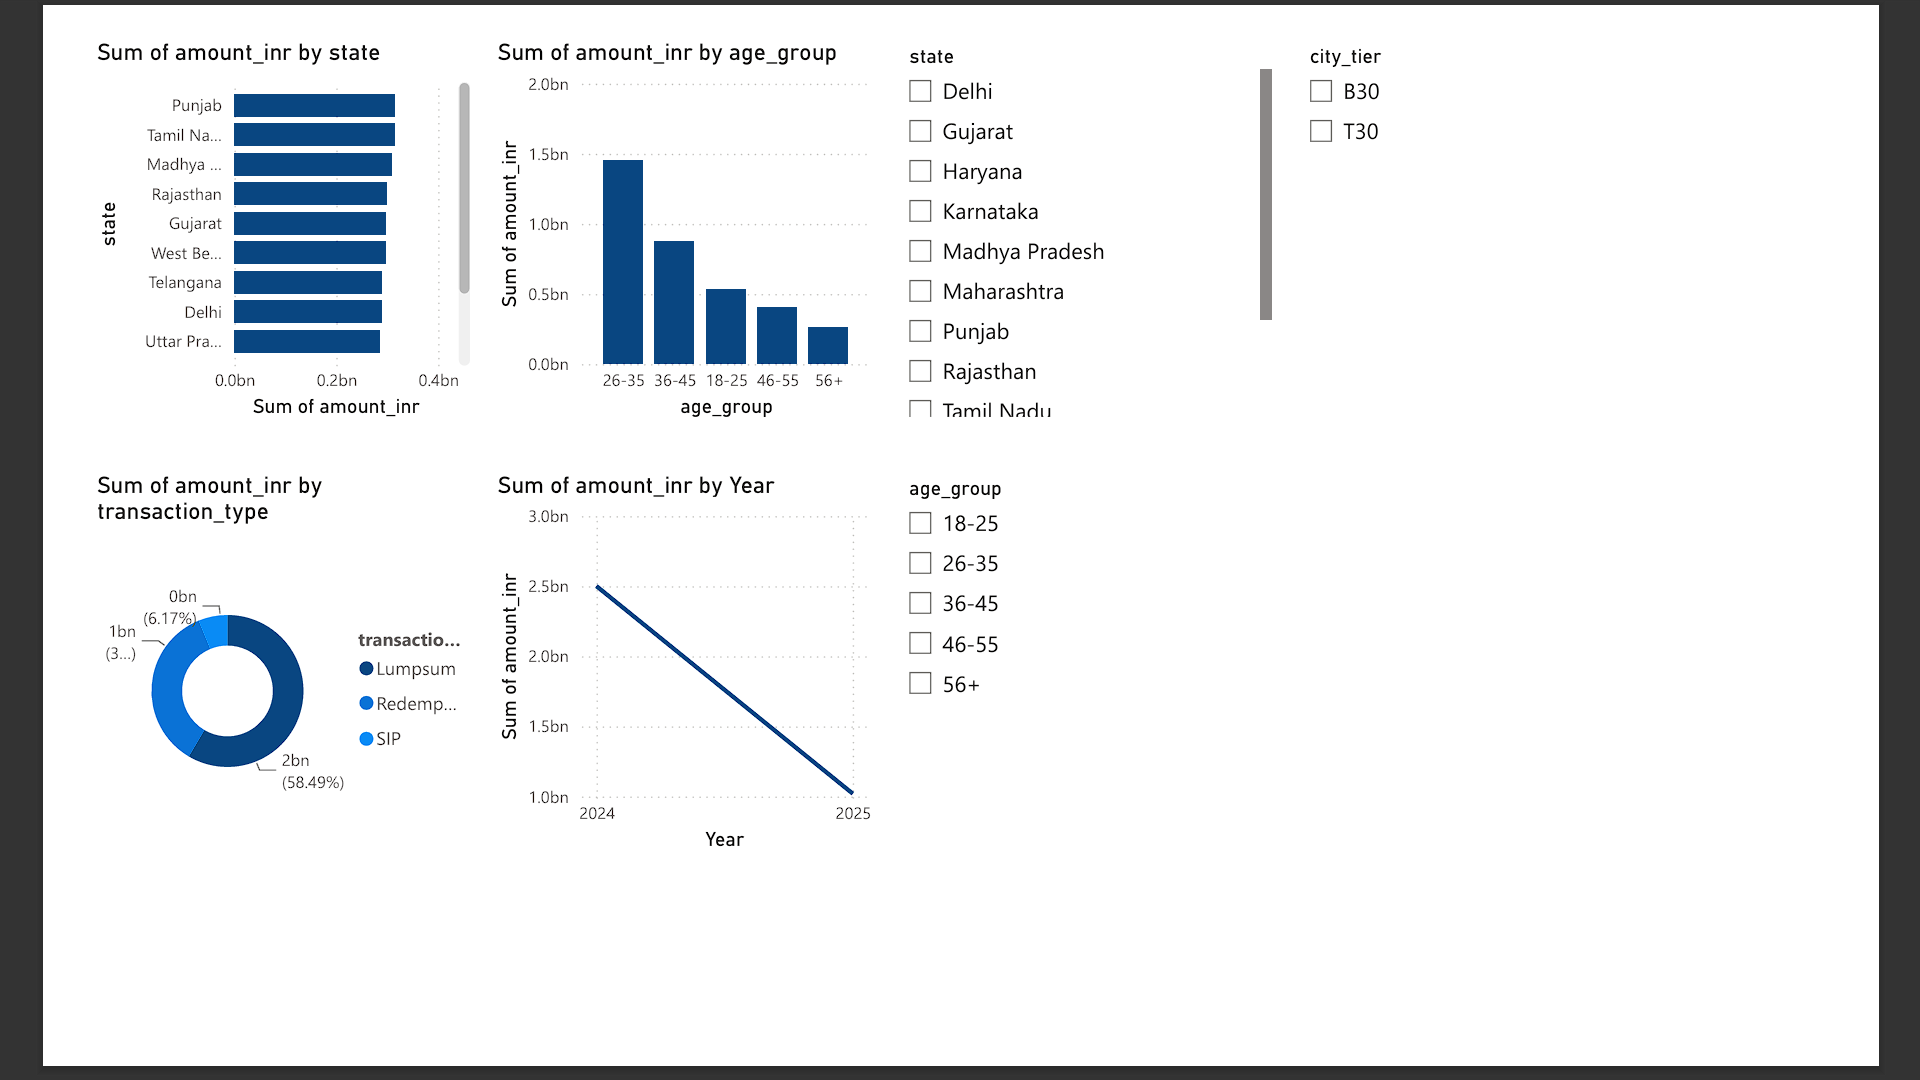

What the dashboard file says about the page in this screenshot:
{"tool":"powerbi","page":{"name":"Investor Analytics","canvas":[1280,720],"ordinal":2},"visuals":[{"type":"clusteredBarChart","fields":{"Category":["transactions_clean.state"],"Y":["Sum(transactions_clean.amount_inr)"]},"box":[10,0,280,280],"z":0},{"type":"donutChart","fields":{"Category":["transactions_clean.transaction_type"],"Y":["Sum(transactions_clean.amount_inr)"]},"box":[10,312.7,280,280],"z":1},{"type":"columnChart","fields":{"Category":["transactions_clean.age_group"],"Y":["Sum(transactions_clean.amount_inr)"]},"box":[300,0,280,280],"z":2},{"type":"lineChart","fields":{"Category":["transactions_clean.transaction_date.Variation.Date Hierarchy.Year","transactions_clean.transaction_date.Variation.Date Hierarchy.Quarter","transactions_clean.transaction_date.Variation.Date Hierarchy.Month","transactions_clean.transaction_date.Variation.Date Hierarchy.Day"],"Y":["Sum(transactions_clean.amount_inr)"]},"box":[300,313,280,280],"z":3},{"type":"slicer","fields":{"Values":["transactions_clean.state"]},"box":[590,0,280,280],"z":4},{"type":"slicer","fields":{"Values":["transactions_clean.age_group"]},"box":[590,313,280,280],"z":5},{"type":"slicer","fields":{"Values":["transactions_clean.city_tier"]},"box":[880,0,280,280],"z":6}]}

Visuals, with their boxes in screenshot pixels (x1, y1, x2, y2), scaled from the page's 1280x720 canvas onto the 1920x1080 screenshot:
clusteredBarChart - transactions_clean.state x Sum(transactions_clean.amount_inr): (15,0,435,420)
donutChart - transactions_clean.transaction_type x Sum(transactions_clean.amount_inr): (15,469,435,889)
columnChart - transactions_clean.age_group x Sum(transactions_clean.amount_inr): (450,0,870,420)
lineChart - transactions_clean.transaction_date.Variation.Date Hierarchy.Year x transactions_clean.transaction_date.Variation.Date Hierarchy.Quarter: (450,470,870,890)
slicer - transactions_clean.state: (885,0,1305,420)
slicer - transactions_clean.age_group: (885,470,1305,890)
slicer - transactions_clean.city_tier: (1320,0,1740,420)
